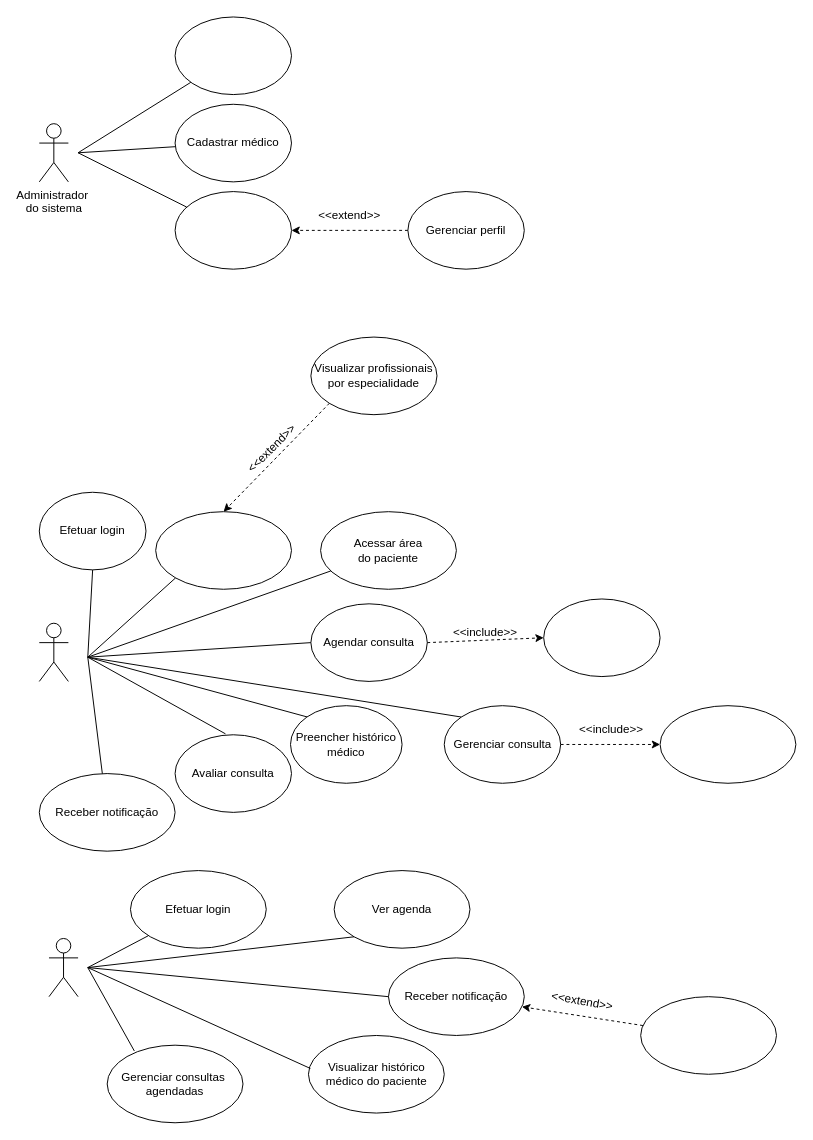
The diagram is 813 pixels wide and 1140 high, and some of its shapes have lost their labels. The centre of each missing label's shape, as x and y in pixels:
"Atualizar dados" goes at [232,230].
"Cadastrar paciente" goes at [232,55].
"Cancelar consulta" goes at [727,744].
"Pesquisar profissionais disponíveis" goes at [223,550].
"Profissional de saúde" goes at [63,967].
"Usuário (paciente)" goes at [53,651].
"Ver disponibilidade" goes at [708,1035].
"Visualizar horários disponíveis" goes at [601,637].
